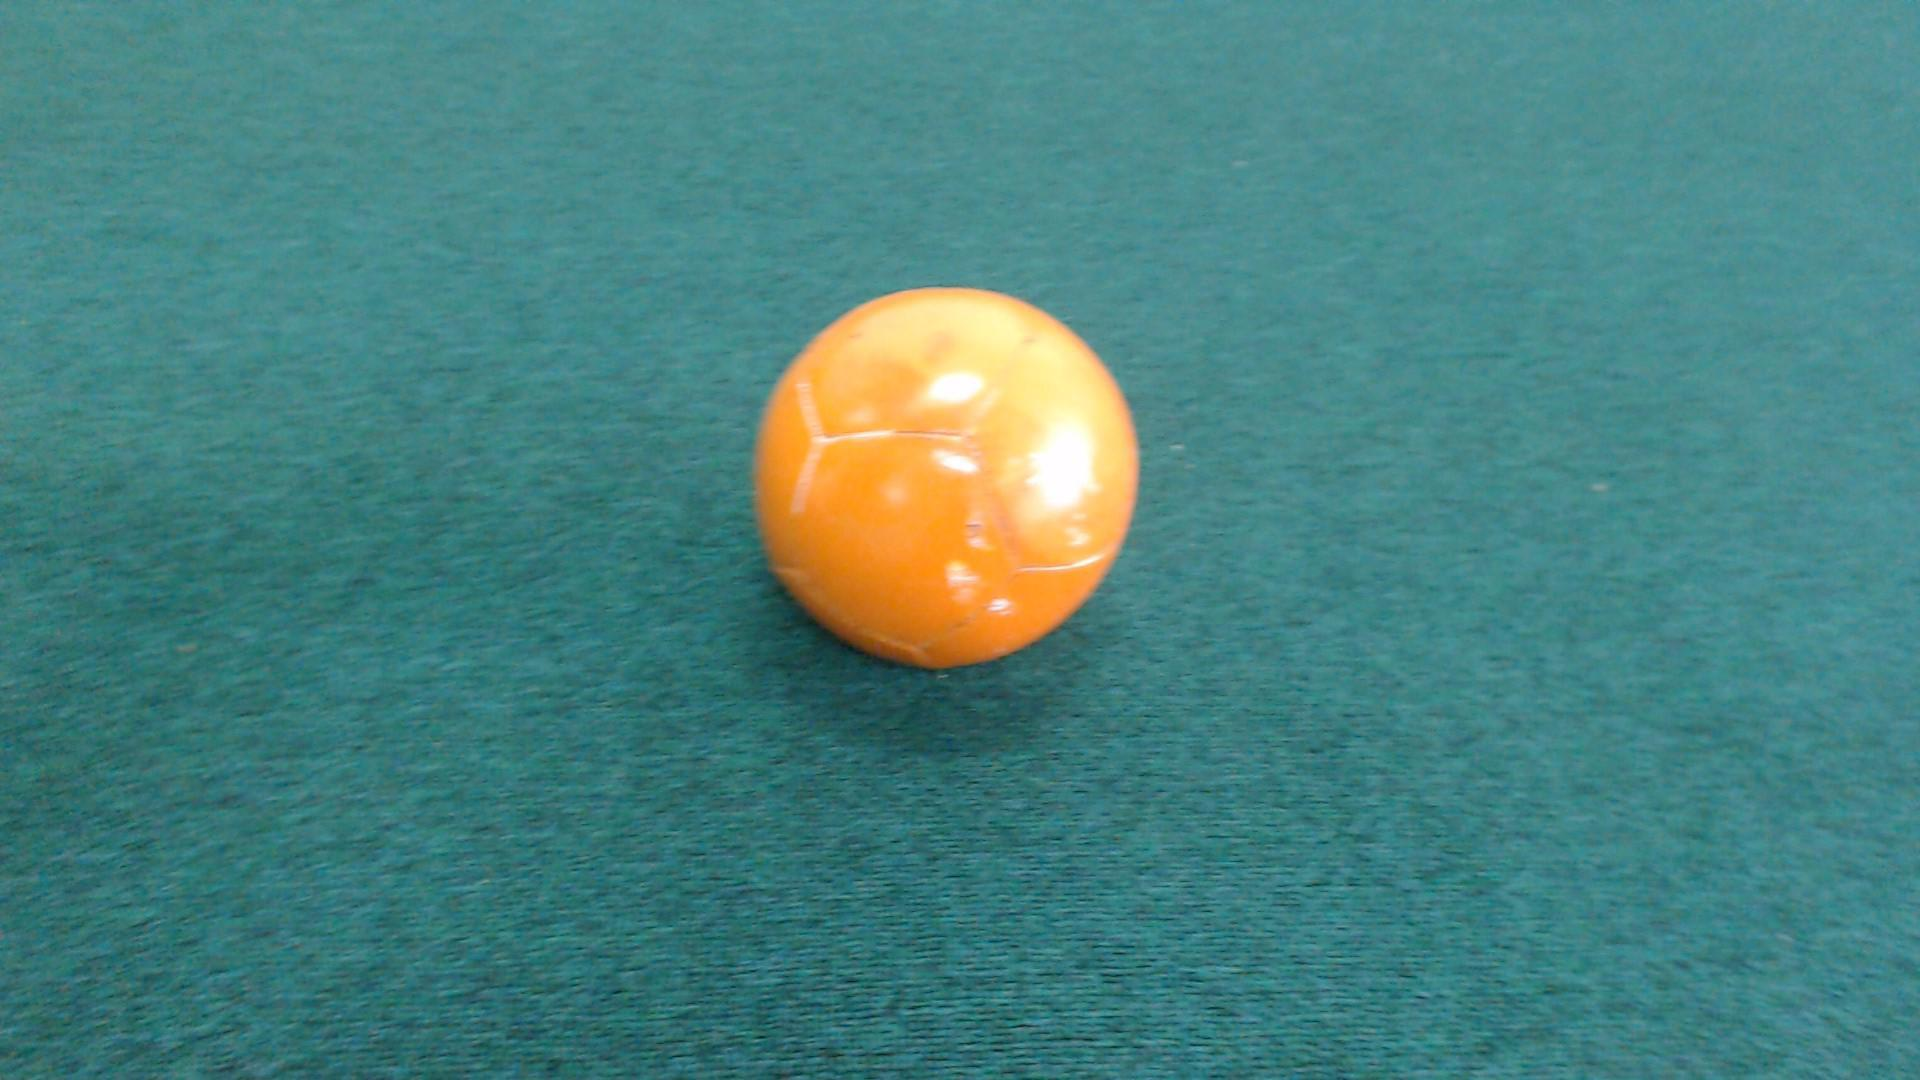bola: (709, 272, 1156, 695)
